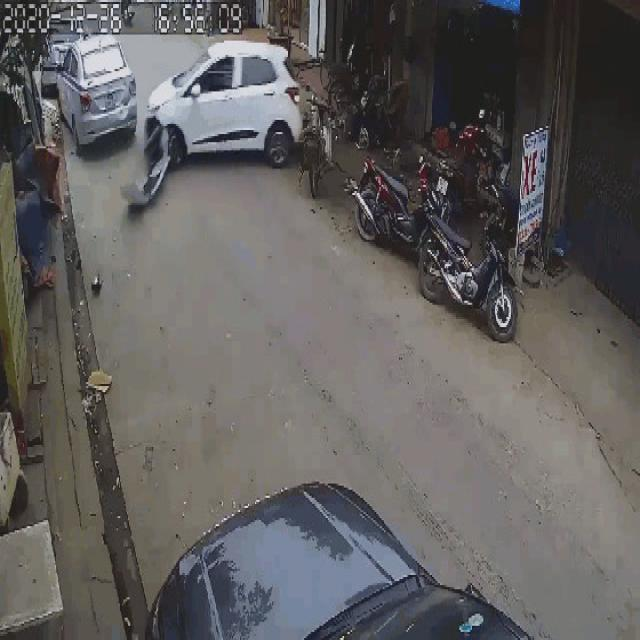multiple_accident: (57, 35, 305, 211)
